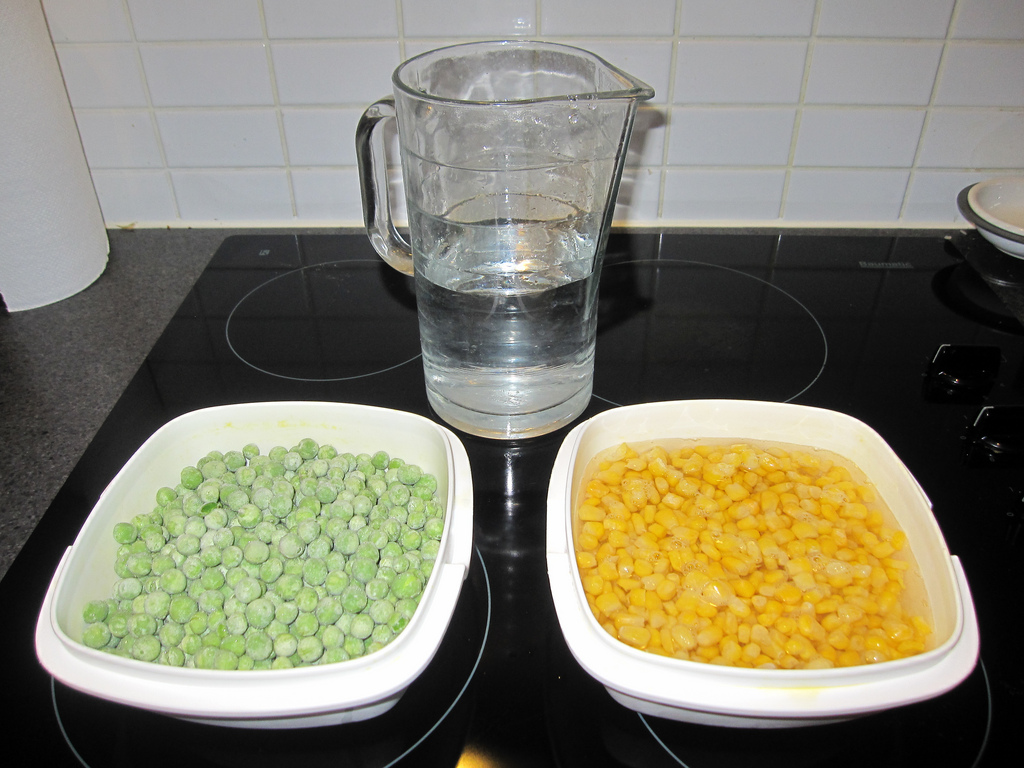boiled peas: (82, 439, 444, 665)
glass of water: (402, 221, 613, 452)
